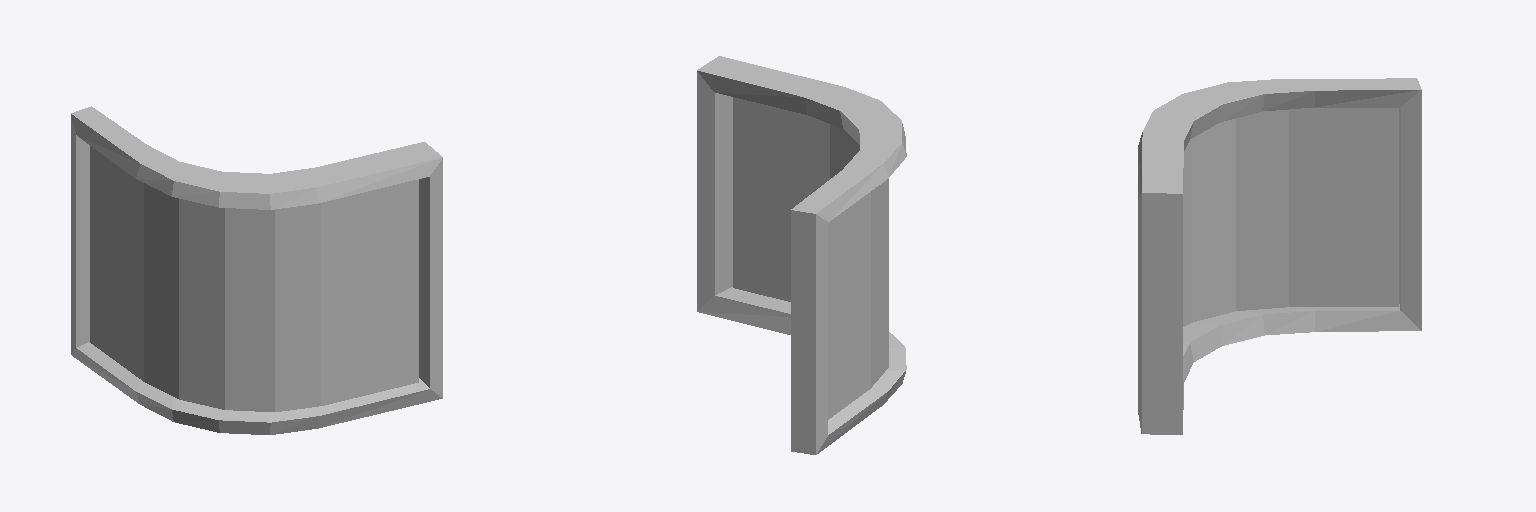
File: Sign_Corner_Small1_Plane_002.obj
The picture shows the model from 3 angles: view 1: azimuth 30°, elevation 25°; view 2: azimuth 150°, elevation 25°; view 3: azimuth 270°, elevation 25°; orthographic projection.
Visible parts, largest first — view 1: Sign_Corner_Small1_Plane.002_Sign_Corner_Small1_Plane.003; view 2: Sign_Corner_Small1_Plane.002_Sign_Corner_Small1_Plane.003; view 3: Sign_Corner_Small1_Plane.002_Sign_Corner_Small1_Plane.003.
Part boxes in pixels (x1,y1,x2,y2): Sign_Corner_Small1_Plane.002_Sign_Corner_Small1_Plane.003: (71, 106, 442, 434); Sign_Corner_Small1_Plane.002_Sign_Corner_Small1_Plane.003: (697, 56, 906, 454); Sign_Corner_Small1_Plane.002_Sign_Corner_Small1_Plane.003: (1138, 78, 1421, 434).
Bounding box in the file's own units: 0.5017 × 0.482 × 0.5134.